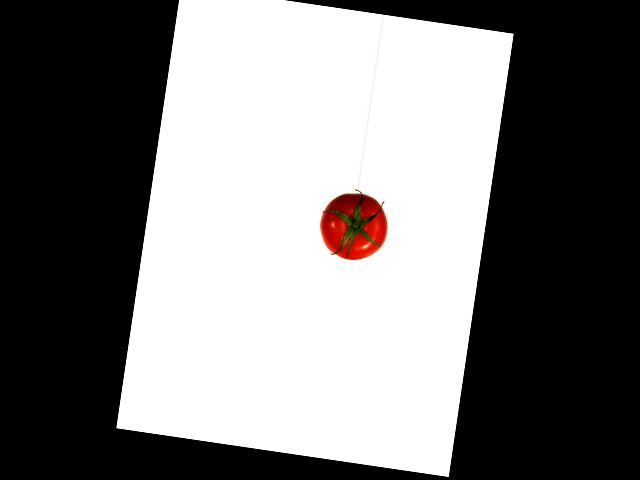tomato: (315, 188, 391, 265)
